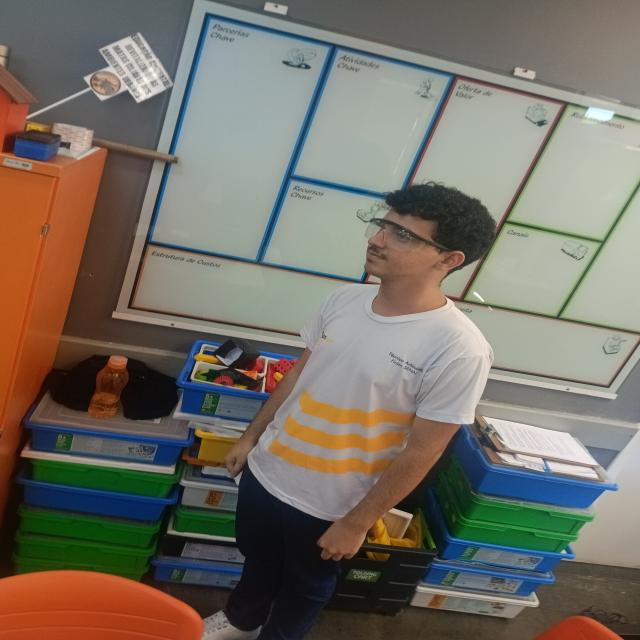oculos-epi: (364, 219, 450, 254)
